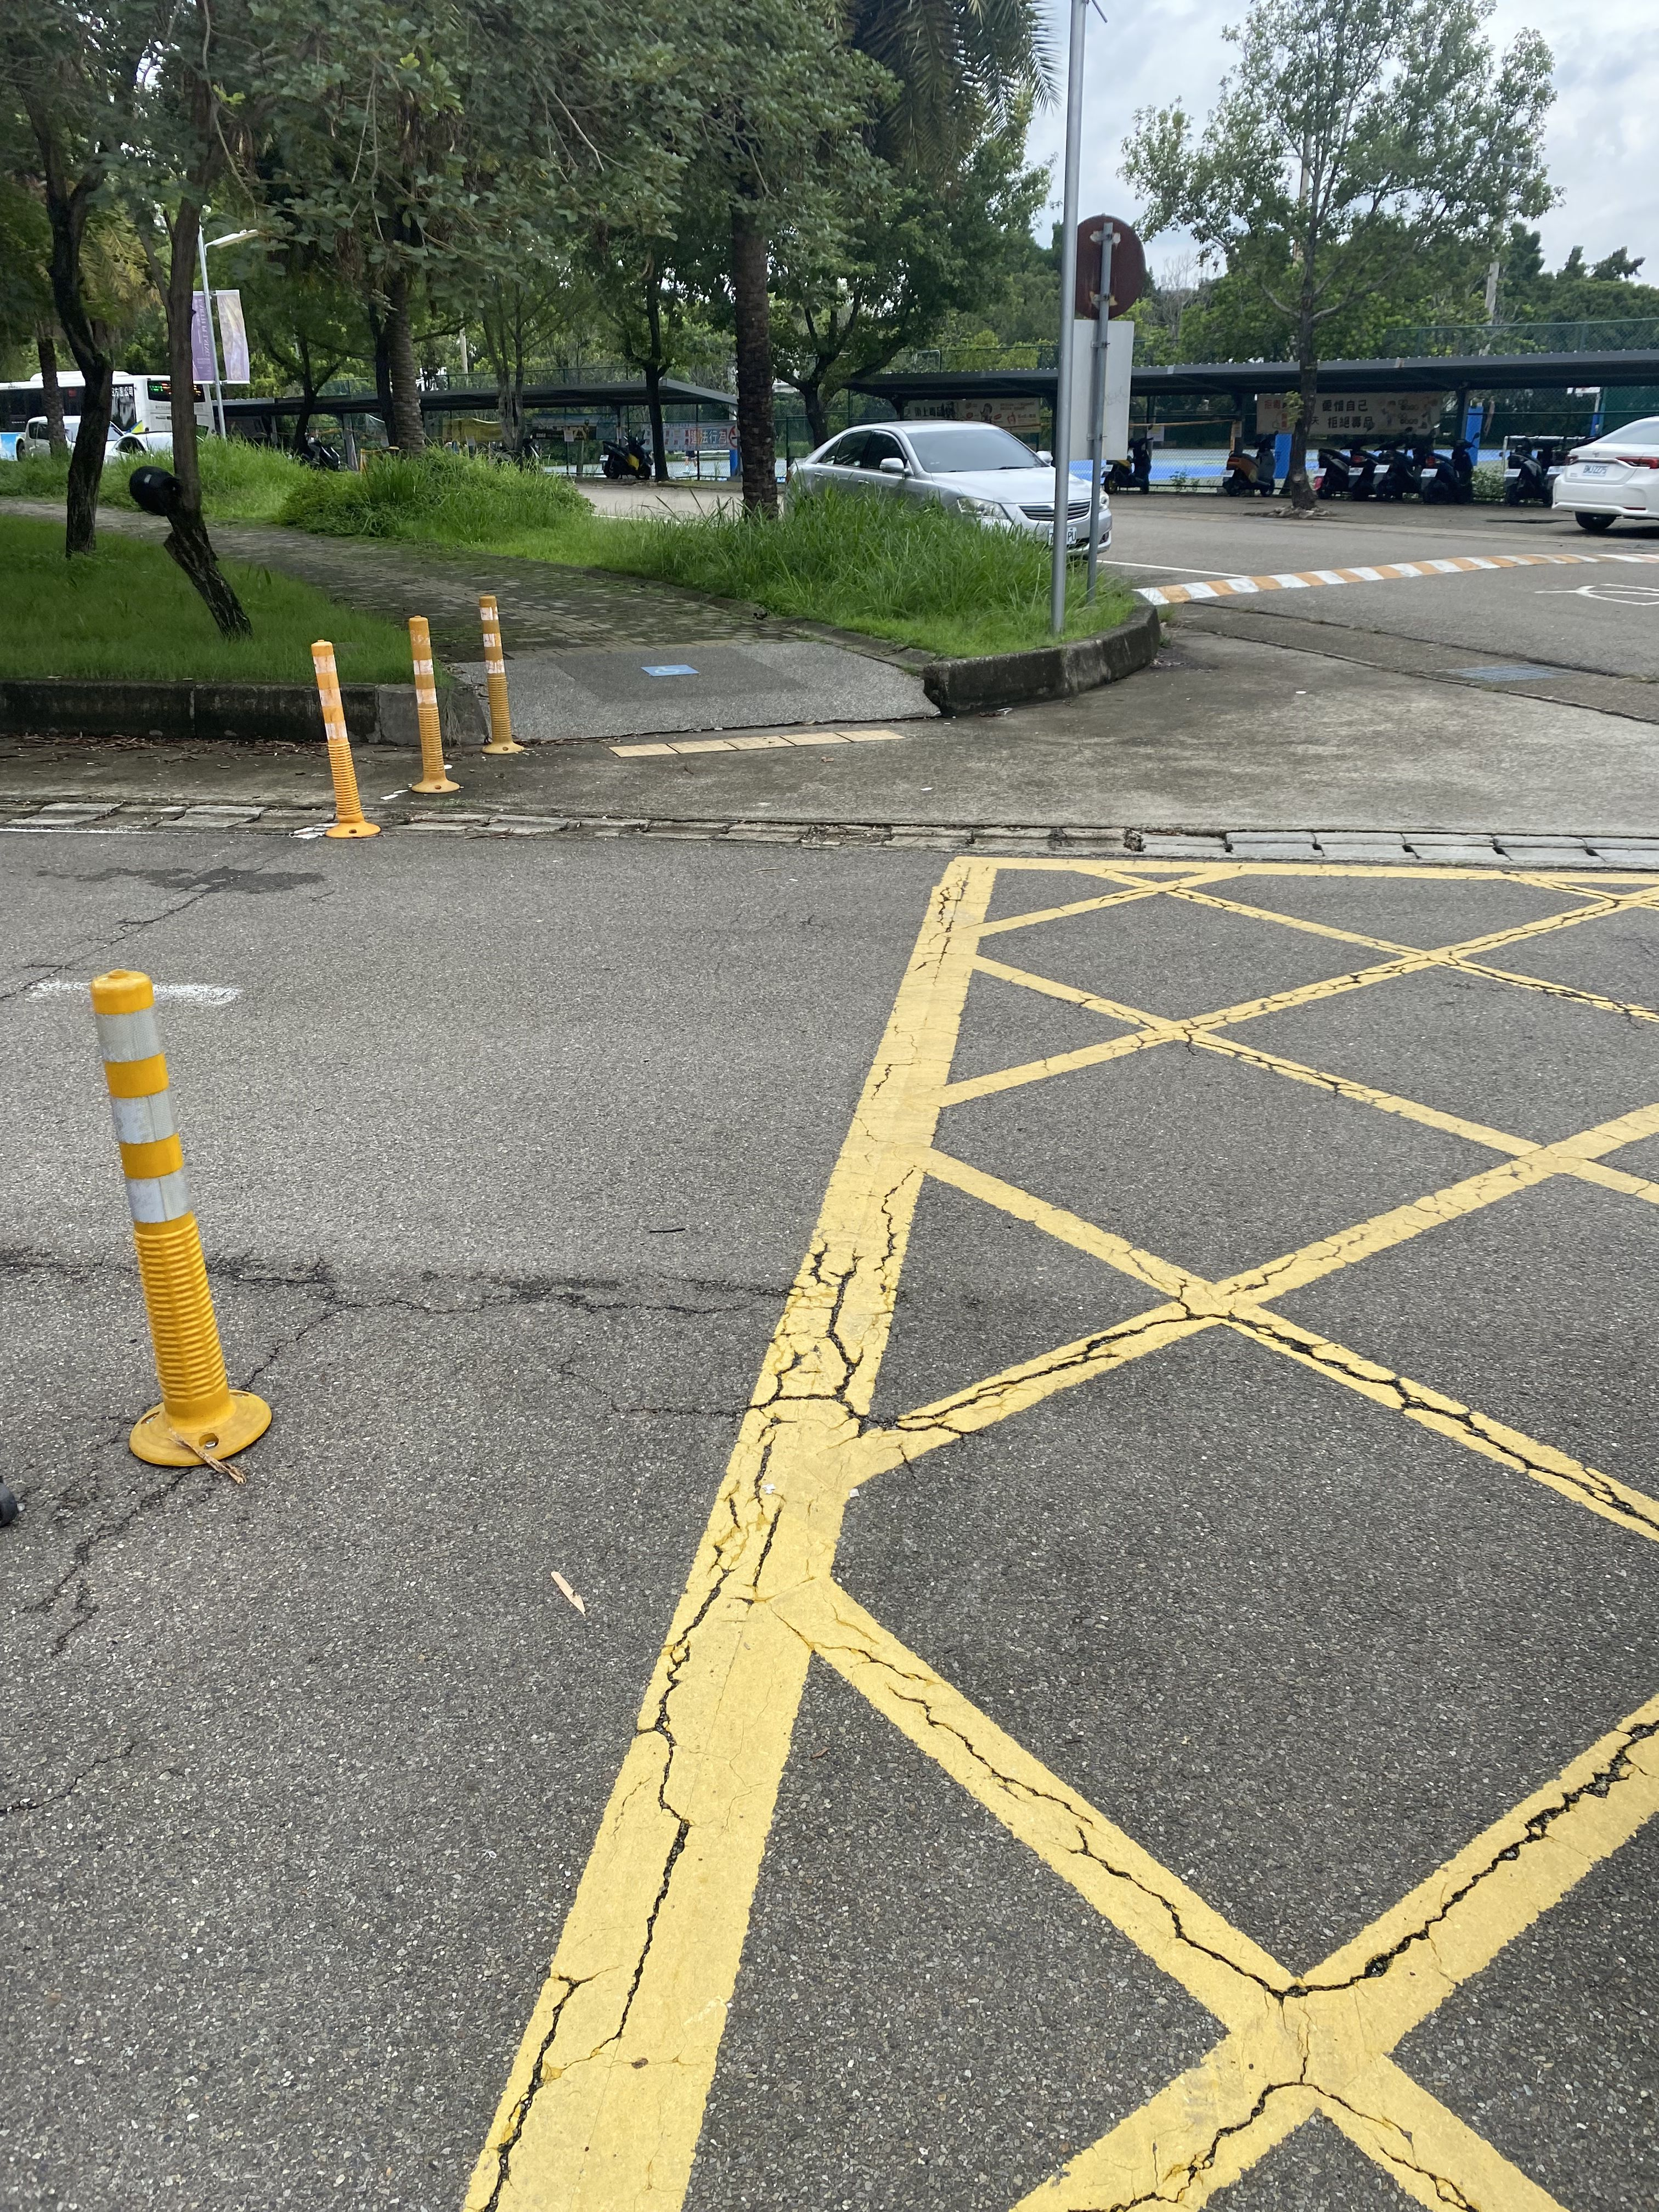sidewalk: (282, 514, 962, 744)
